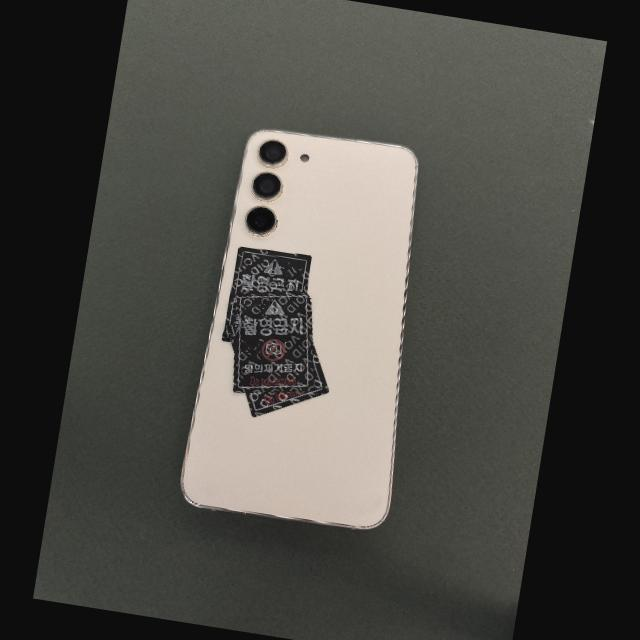lens: (245, 206, 276, 236), (251, 172, 282, 201), (259, 140, 287, 167)
phone: (182, 130, 417, 529)
sticker: (221, 247, 311, 342), (234, 292, 314, 394), (246, 341, 329, 417)
